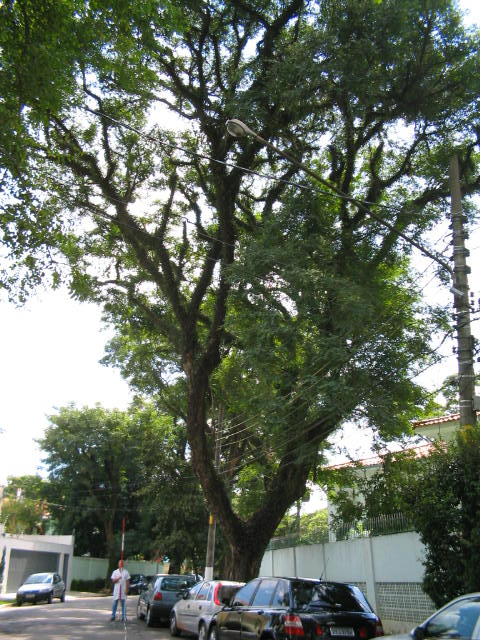stem: (215, 537, 274, 630)
stick: (112, 518, 129, 626)
tree: (47, 1, 479, 631)
